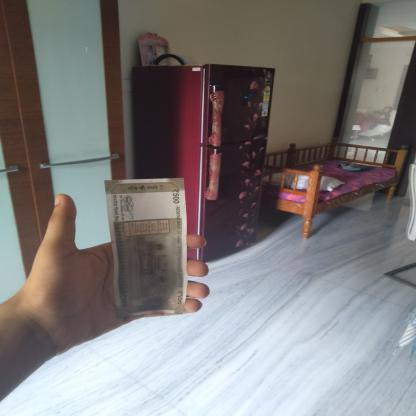New500Back: (105, 186, 187, 312)
